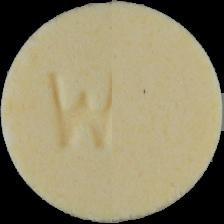60429-108: (0, 0, 224, 224)
